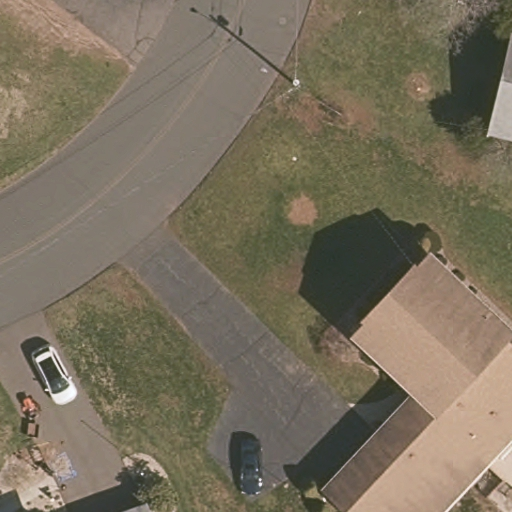DT: (259, 64, 305, 91)
